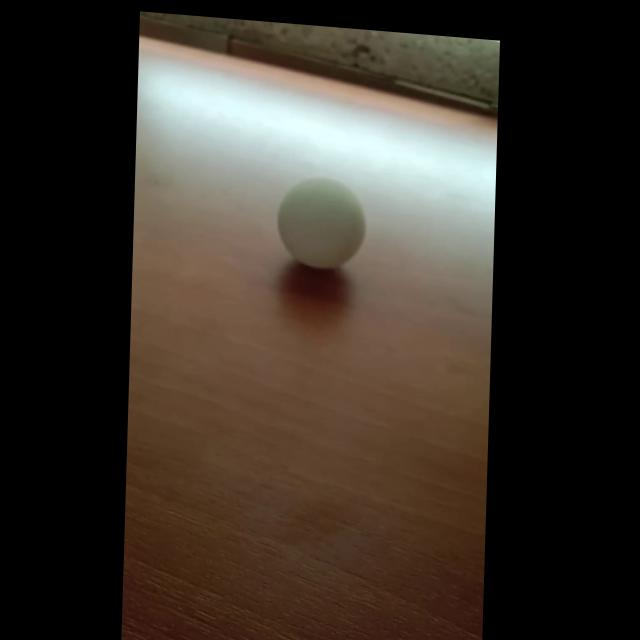white ball: (275, 172, 368, 273)
